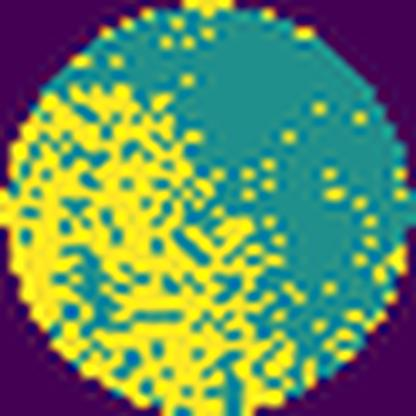Edge-Loc: (0, 77, 292, 415)
